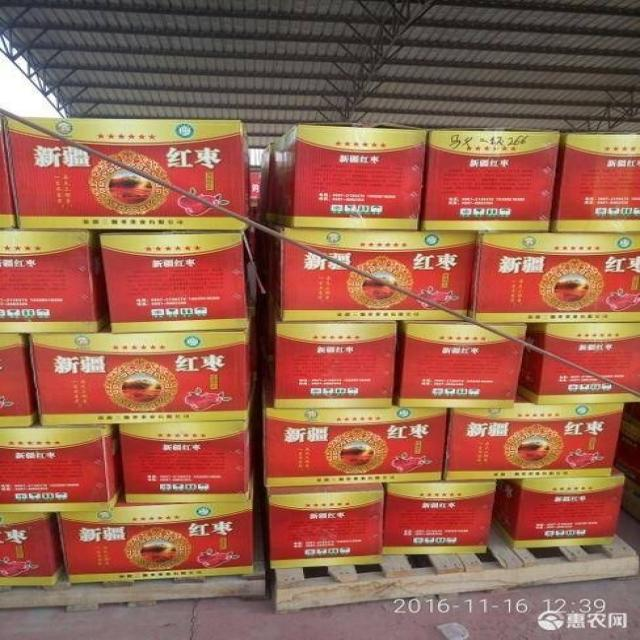box: (4, 116, 244, 230), (31, 318, 258, 426), (20, 117, 250, 218), (55, 475, 256, 584), (264, 221, 479, 318), (100, 225, 265, 334), (265, 122, 428, 230), (268, 235, 468, 322), (262, 392, 449, 485), (468, 230, 640, 324), (443, 391, 623, 479), (420, 127, 563, 231), (264, 310, 397, 410), (118, 405, 252, 503), (0, 416, 126, 515), (393, 320, 525, 408), (0, 228, 108, 333), (492, 463, 626, 546), (265, 483, 383, 569), (551, 132, 640, 234), (380, 479, 500, 554), (525, 322, 640, 392), (517, 349, 640, 405), (0, 511, 66, 586), (0, 333, 37, 426), (0, 116, 16, 229), (256, 145, 274, 219), (479, 323, 526, 343)
